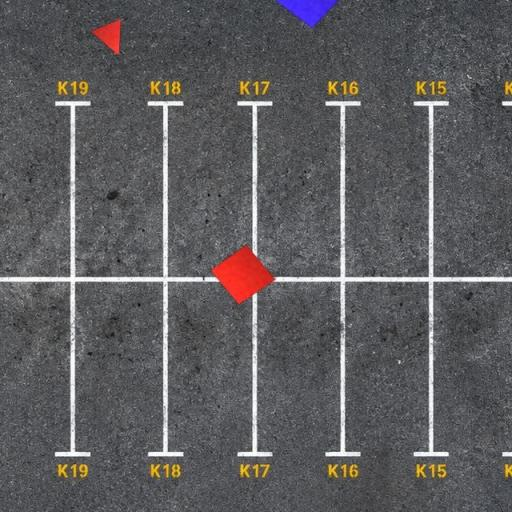RED_SQUARE: (210, 244, 276, 306)
